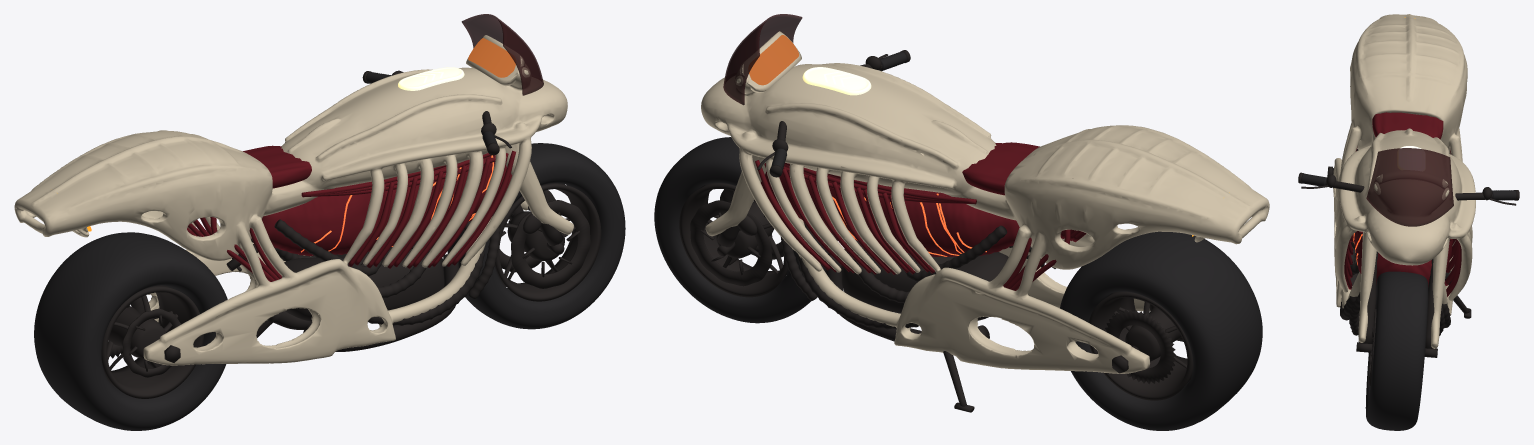
Rendered from bike3.glb.
The picture shows the model from 3 angles, left to right: view 1: azimuth 30°, elevation 25°; view 2: azimuth 150°, elevation 25°; view 3: azimuth 270°, elevation 25°; orthographic projection. The views are drawn at different scales.
Visible parts, largest first — view 1: Bike3, Wheel3Rear, Wheel3Front, Bike3Dash, Bike3Button; view 2: Bike3, Wheel3Rear, Wheel3Front, Bike3Dash, Bike3Button; view 3: Bike3, Wheel3Front, Bike3Button.
Part boxes in pixels (<box>): Bike3: <box>14,14,573,365</box>; Wheel3Rear: <box>34,232,227,430</box>; Wheel3Front: <box>447,143,625,329</box>; Bike3Dash: <box>468,38,515,77</box>; Bike3Button: <box>398,67,464,90</box>; Bike3: <box>701,14,1269,412</box>; Wheel3Rear: <box>1060,231,1262,430</box>; Wheel3Front: <box>654,137,837,323</box>; Bike3Dash: <box>749,35,799,85</box>; Bike3Button: <box>802,67,871,95</box>; Bike3: <box>1298,14,1519,357</box>; Wheel3Front: <box>1365,271,1428,430</box>; Bike3Button: <box>1398,146,1424,170</box>.
Bounding box in the file's own units: 2.25 × 1.13 × 0.8645.
